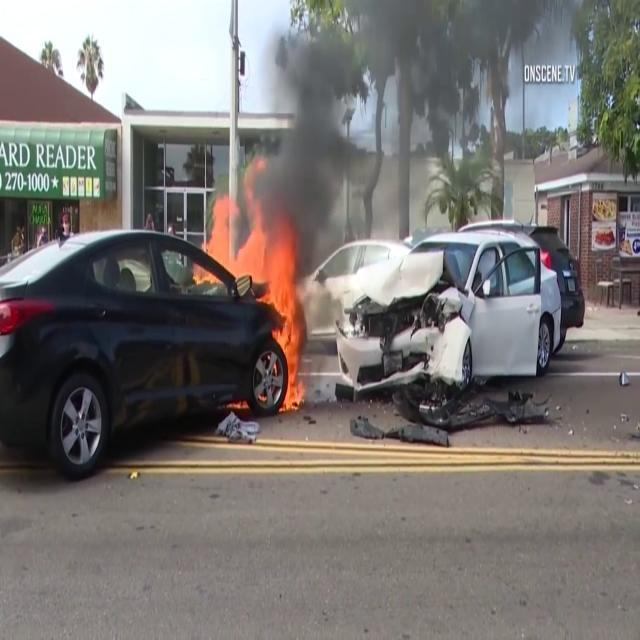Fire: (259, 231, 305, 414), (195, 180, 266, 288)
Smoke: (233, 7, 498, 247)
